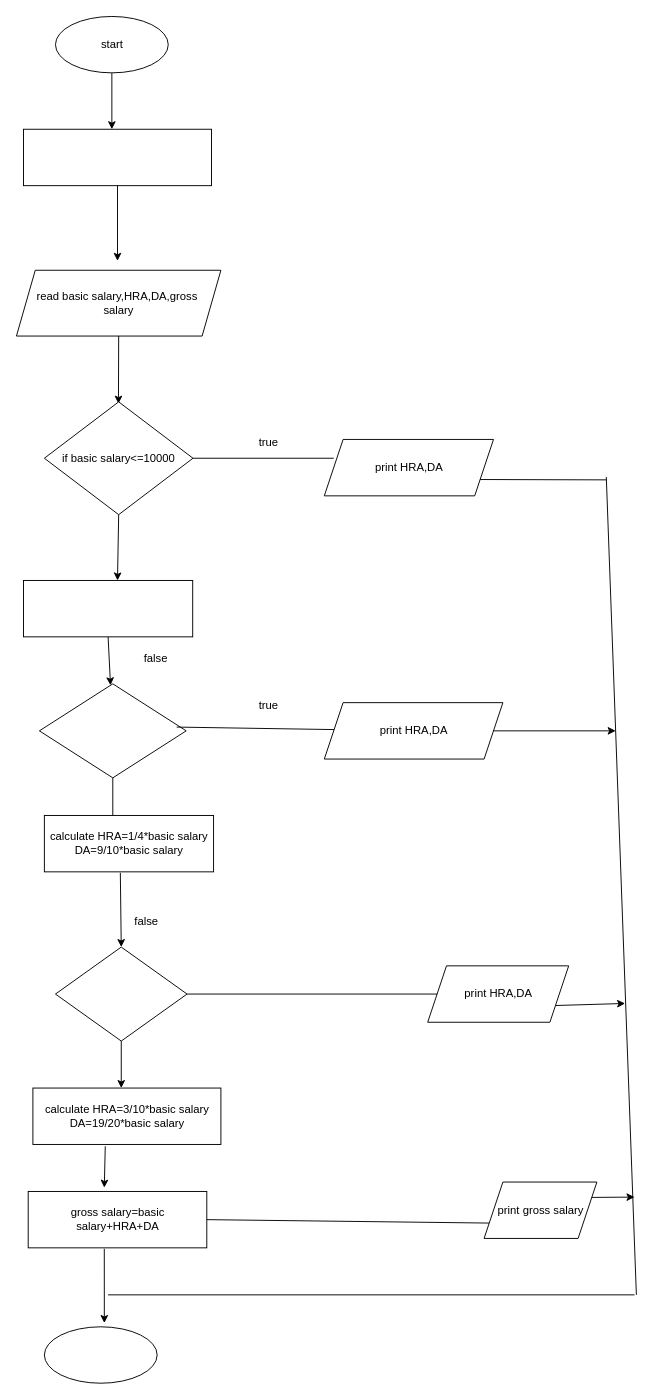
Image size: 659x1400. Some labels were removed from this diagram. Each missing label, with the centre of its shape:
"calculate HRA=1/5*basic salary DA=4/5*basic salary" goes at point 108,608.
"declare basic salary,HRA,DA,gross salary" goes at point 117,157.
"el if basic salary<=20000" goes at point 112,730.
"else basic salary>20000" goes at point 121,993.
"stop" goes at point 100,1354.
